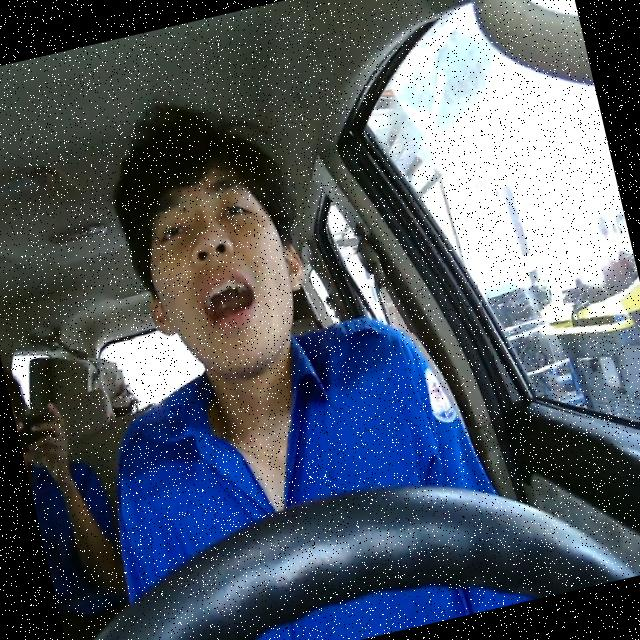yarning: (119, 153, 321, 391)
